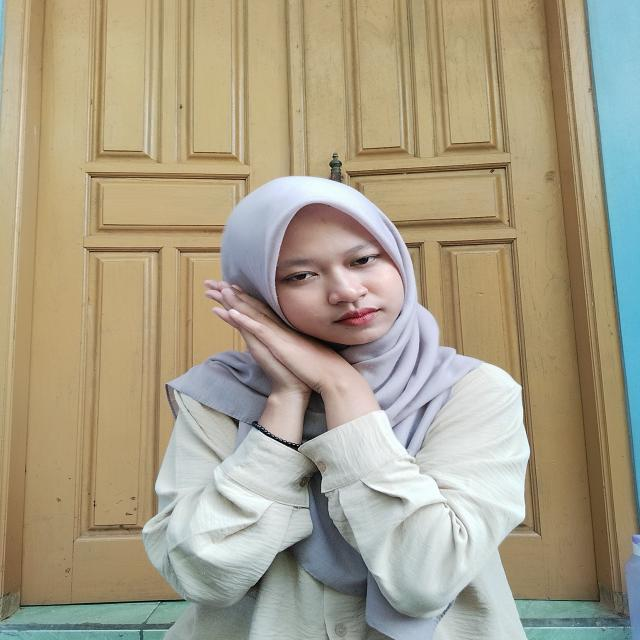tidur: (183, 276, 395, 442)
